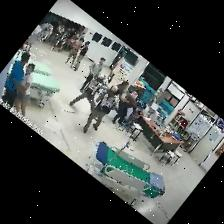person: (83, 86, 117, 133), (1, 52, 29, 107), (69, 74, 104, 110), (14, 64, 34, 116), (79, 57, 104, 92), (112, 93, 139, 124), (65, 38, 83, 66), (72, 41, 88, 70), (48, 25, 63, 43), (113, 81, 127, 99), (63, 28, 74, 49), (70, 30, 78, 43)
